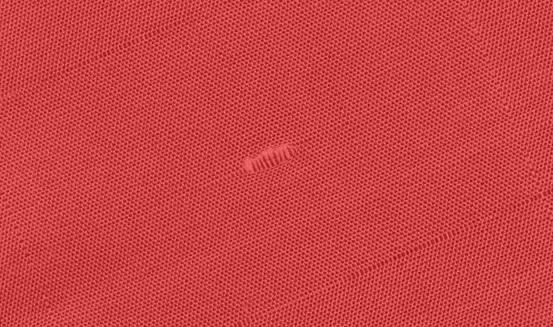slub: (235, 141, 305, 175)
